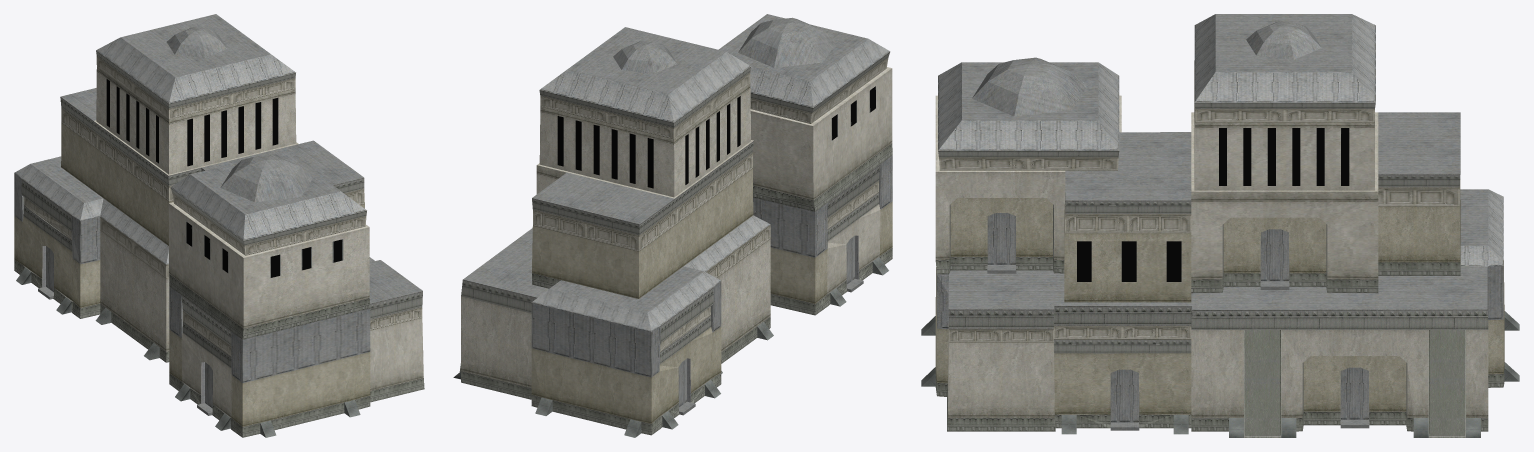
File: thm_corl_imprv_historic_32x16_s02_l1.fbx
The picture shows the model from 3 angles, left to right: view 1: azimuth 30°, elevation 25°; view 2: azimuth 150°, elevation 25°; view 3: azimuth 270°, elevation 25°; orthographic projection. The views are drawn at different scales.
Visible parts, largest first — view 1: mesh_node; view 2: mesh_node; view 3: mesh_node.
Boxes of the visible parts, x1,y1,x2,y2 form: mesh_node: [14, 14, 424, 437]; mesh_node: [453, 14, 892, 437]; mesh_node: [921, 14, 1519, 437].
Bounding box in the file's own units: 15.81 × 20.71 × 32.
